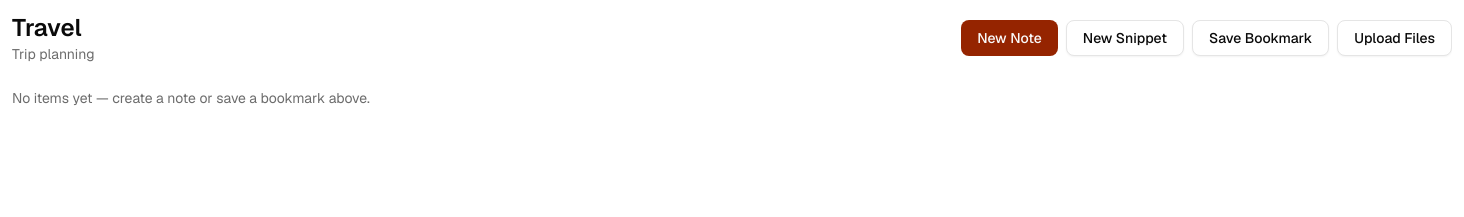
Test case: CollectionDetailView › renders an 'Upload Files' action that expands into a drop zone
Check: the text "No items yet — create a note or save a bookmark above." is shown, box [12, 89, 370, 107]
What coordinates should you click on to do the following:
click the button "Upload Files"
I would click on:
 (1395, 38)
Its box is [1337, 20, 1452, 56].
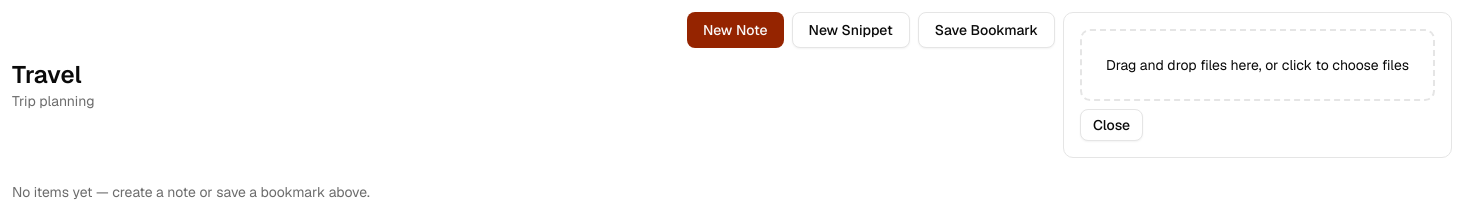
Check: the button "Drag and drop files here, or click to choose files" is shown, box [1080, 29, 1435, 101]
